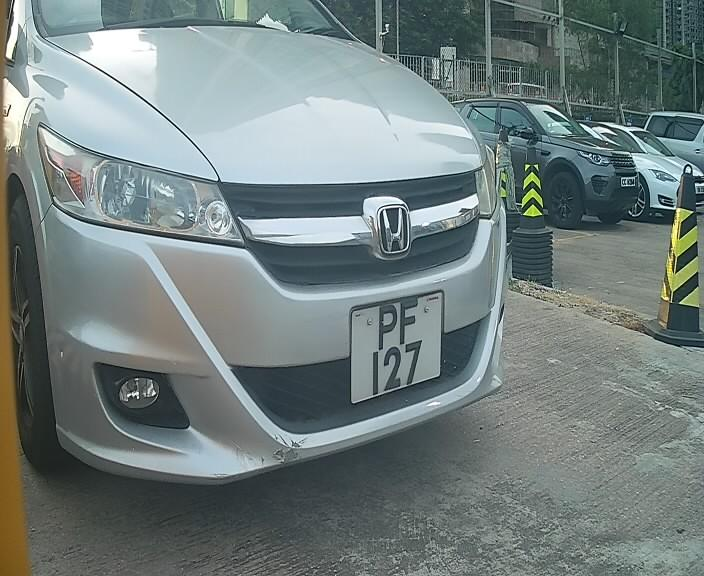License Plate: (340, 283, 450, 412)
